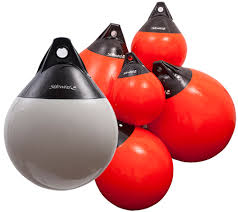buoy: (54, 48, 142, 144), (148, 69, 235, 163), (95, 126, 174, 212), (113, 70, 165, 125), (132, 30, 187, 71)
